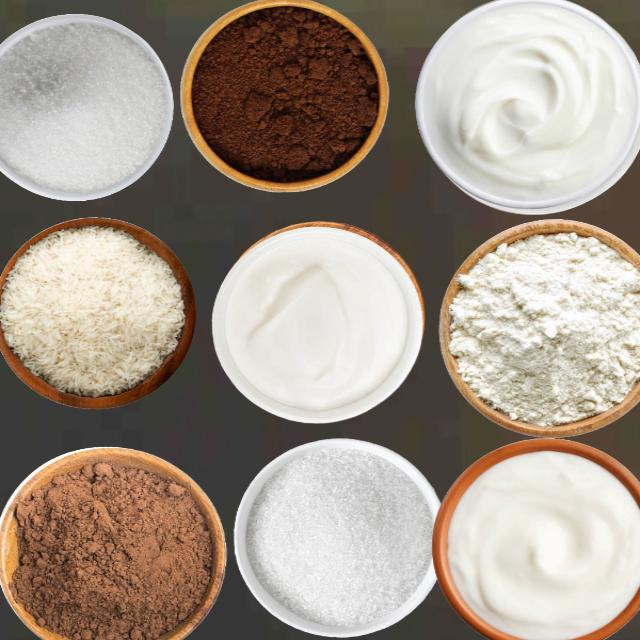Cocoa: (9, 459, 212, 639)
Coffee: (189, 1, 382, 184)
Flour: (447, 230, 639, 426)
Sugar: (245, 445, 433, 627), (0, 14, 172, 198)
